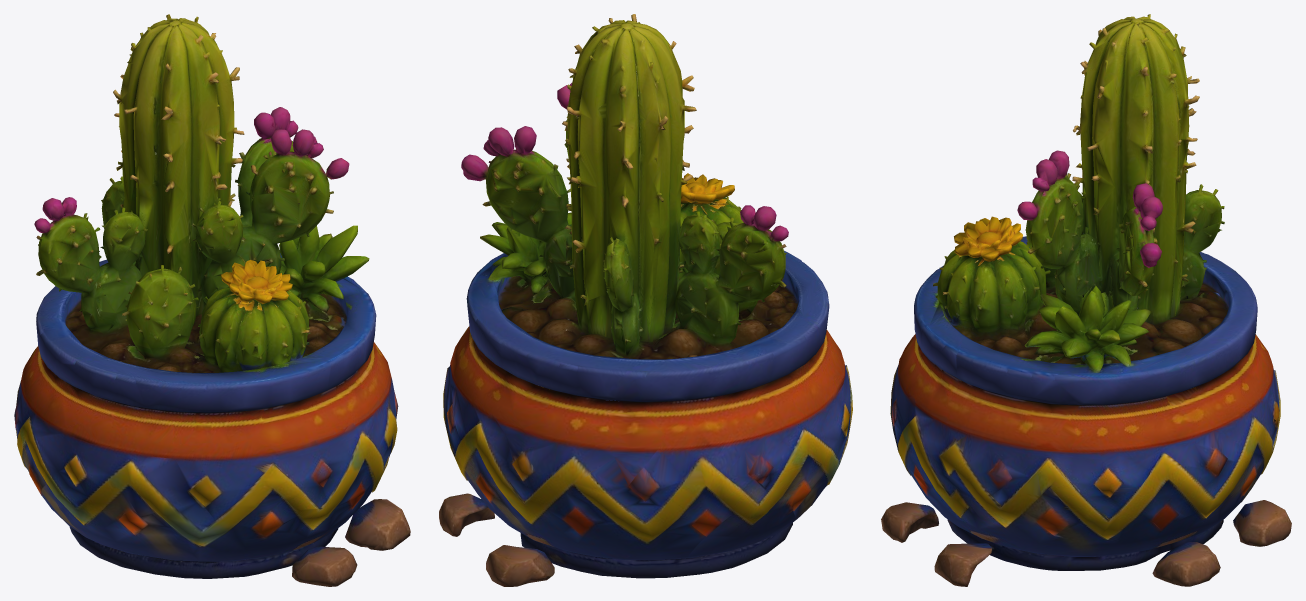
File: planta_de_cactus.glb
The picture shows the model from 3 angles, left to right: view 1: azimuth 30°, elevation 25°; view 2: azimuth 150°, elevation 25°; view 3: azimuth 270°, elevation 25°; orthographic projection. The views are drawn at different scales.
Parts seen in each view (by area): view 1: planta_de_cactus; view 2: planta_de_cactus; view 3: planta_de_cactus.
Part boxes in pixels (x1=…): planta_de_cactus: x1=14, y1=14, x2=410, y2=586; planta_de_cactus: x1=439, y1=14, x2=852, y2=586; planta_de_cactus: x1=881, y1=14, x2=1291, y2=586.
Size of what is drawn, in the model's own units: 0.8677 by 1.2 by 0.9047.
Materials: 1 (1 with a texture image).
